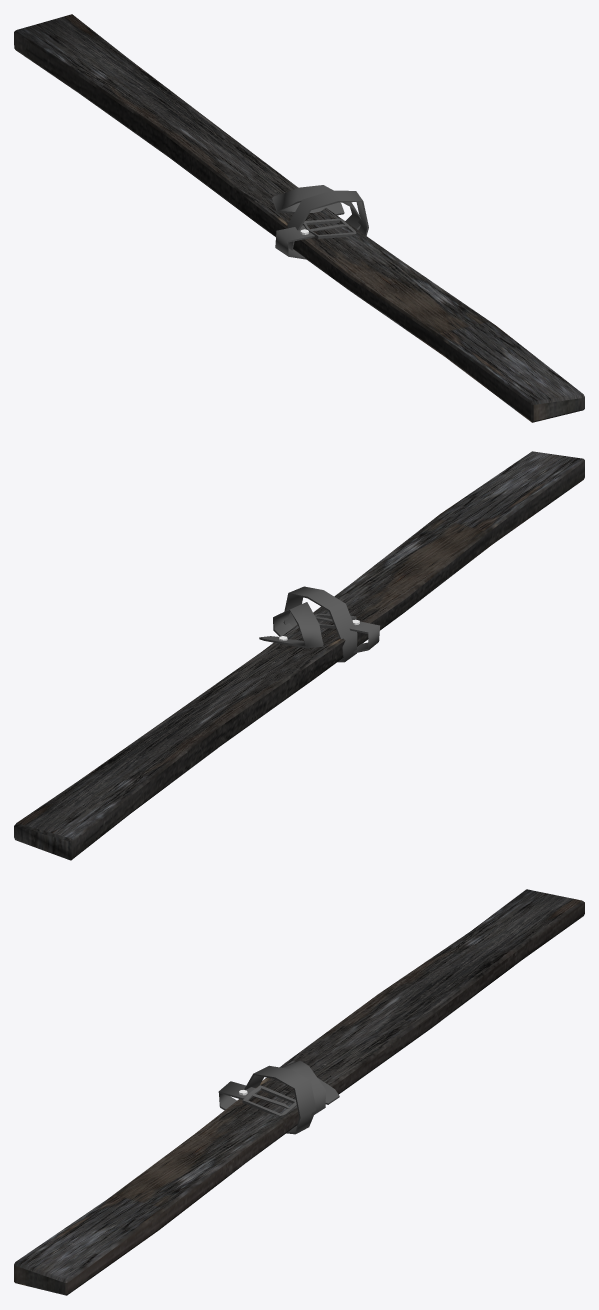
The model's file is skiplank.fbx.
3 views of the same model, one above another, from view 1: azimuth 30°, elevation 25°; view 2: azimuth 150°, elevation 25°; view 3: azimuth 330°, elevation 25° (orthographic).
Parts seen in each view (by area): view 1: ski; view 2: ski; view 3: ski.
Boxes of the visible parts, x1=… form: ski: x1=14, y1=14, x2=584, y2=422; ski: x1=14, y1=451, x2=584, y2=860; ski: x1=14, y1=889, x2=584, y2=1295.
Size of the model in its own units: 24.43 by 15.02 by 249.
